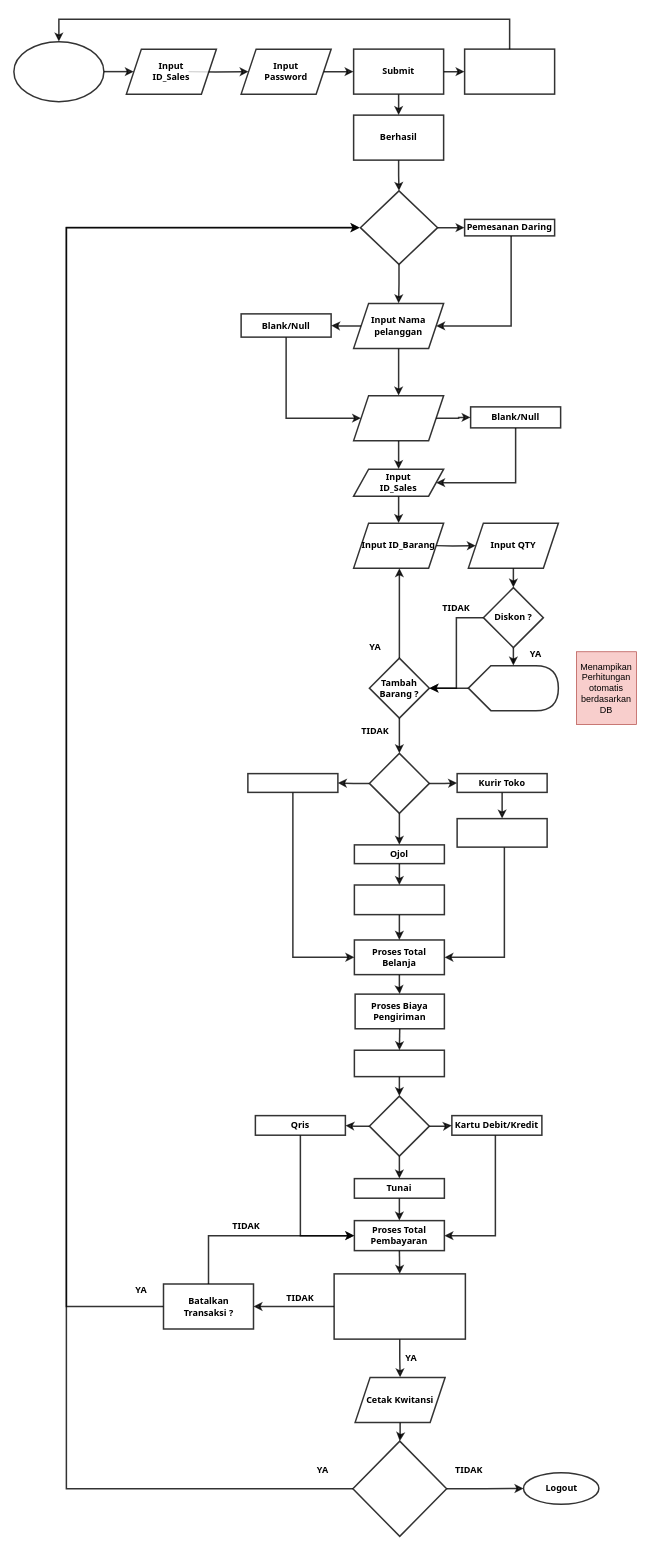
The diagram is 650 pixels wide and 1550 high, and some of its shapes have lost their labels. The box of each missing label's shape, as (x1, y1, x2, y2) in pixels:
Bayar ditempat pelanggan: (353, 884, 445, 915)
Biaya Pengiriman Rp.10.000: (456, 818, 548, 848)
Diskon Barang: (467, 664, 559, 711)
ID_Sales / Password Salah: (464, 48, 555, 94)
Input No Hp pelanggan: (352, 394, 444, 441)
Input Transaksi Kembali ?: (352, 1440, 447, 1537)
Konfirmasi Pembayaran Apakah Pelanggan sudah melakukan pembayaran ?: (333, 1273, 466, 1340)
Login: (13, 40, 104, 102)
Pembayaran: (368, 1095, 430, 1156)
Pemesanan Luring ?: (359, 190, 438, 265)
Pengiriman: (368, 752, 430, 814)
Proses Total Diskon: (353, 1049, 445, 1077)
Walk in: (247, 772, 338, 793)
